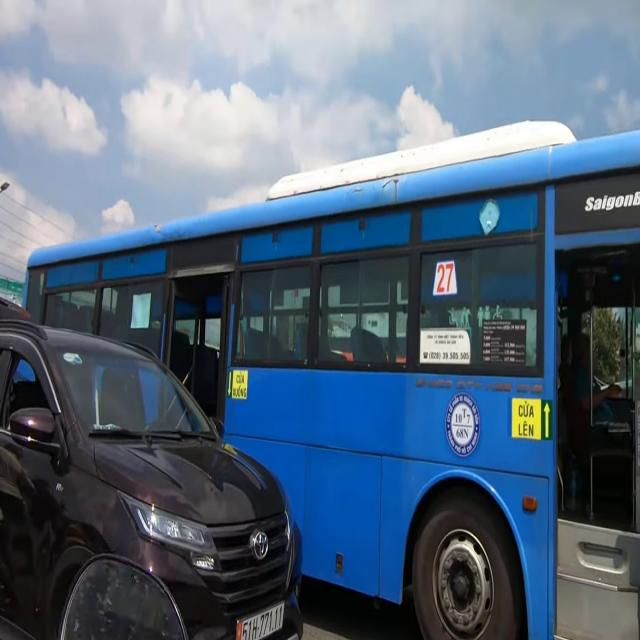bien_trang: (239, 599, 286, 640)
